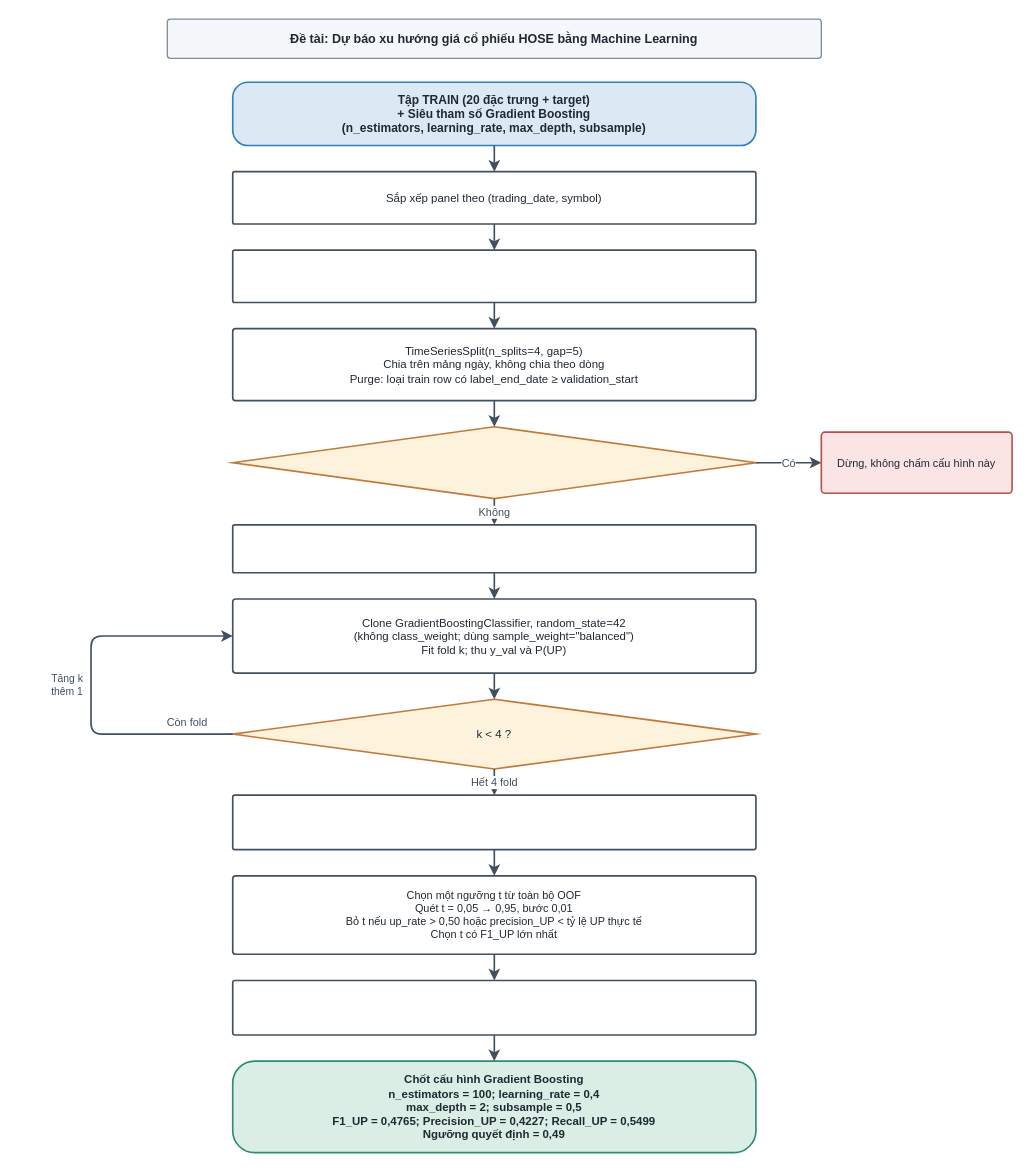
This 1031x1173 diagram has some shape labels left out. The box of each missing label's shape, as (x1, y1, x2, y2) in pixels:
Gom xác suất 4 fold thành một vector OOF Mỗi dòng TRAIN được dự báo đúng một lần: (231, 794, 756, 850)
Khởi tạo vòng lặp: Đặt k = 1: (231, 524, 756, 573)
Rút danh sách ngày giao dịch duy nhất Bỏ các ngày trước 01/01/2021: (231, 249, 756, 303)
Train hoặc val fold rỗng?: (231, 425, 756, 499)
Áp ngưỡng t chung cho 4 fold Tính F1_UP, Precision_UP, Recall_UP trung bình: (231, 979, 756, 1035)
